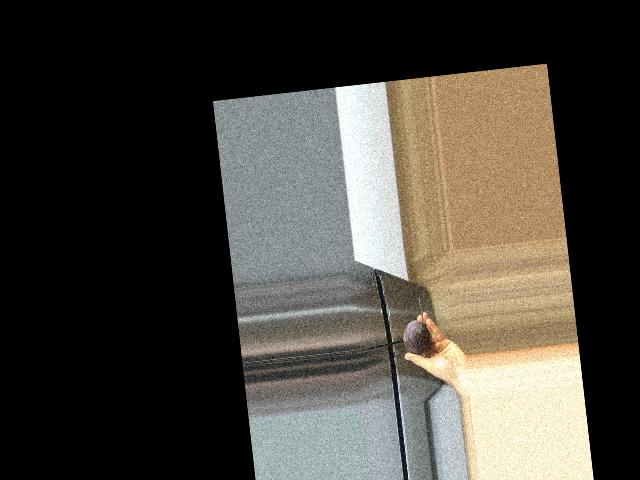beet: (398, 296, 431, 355)
